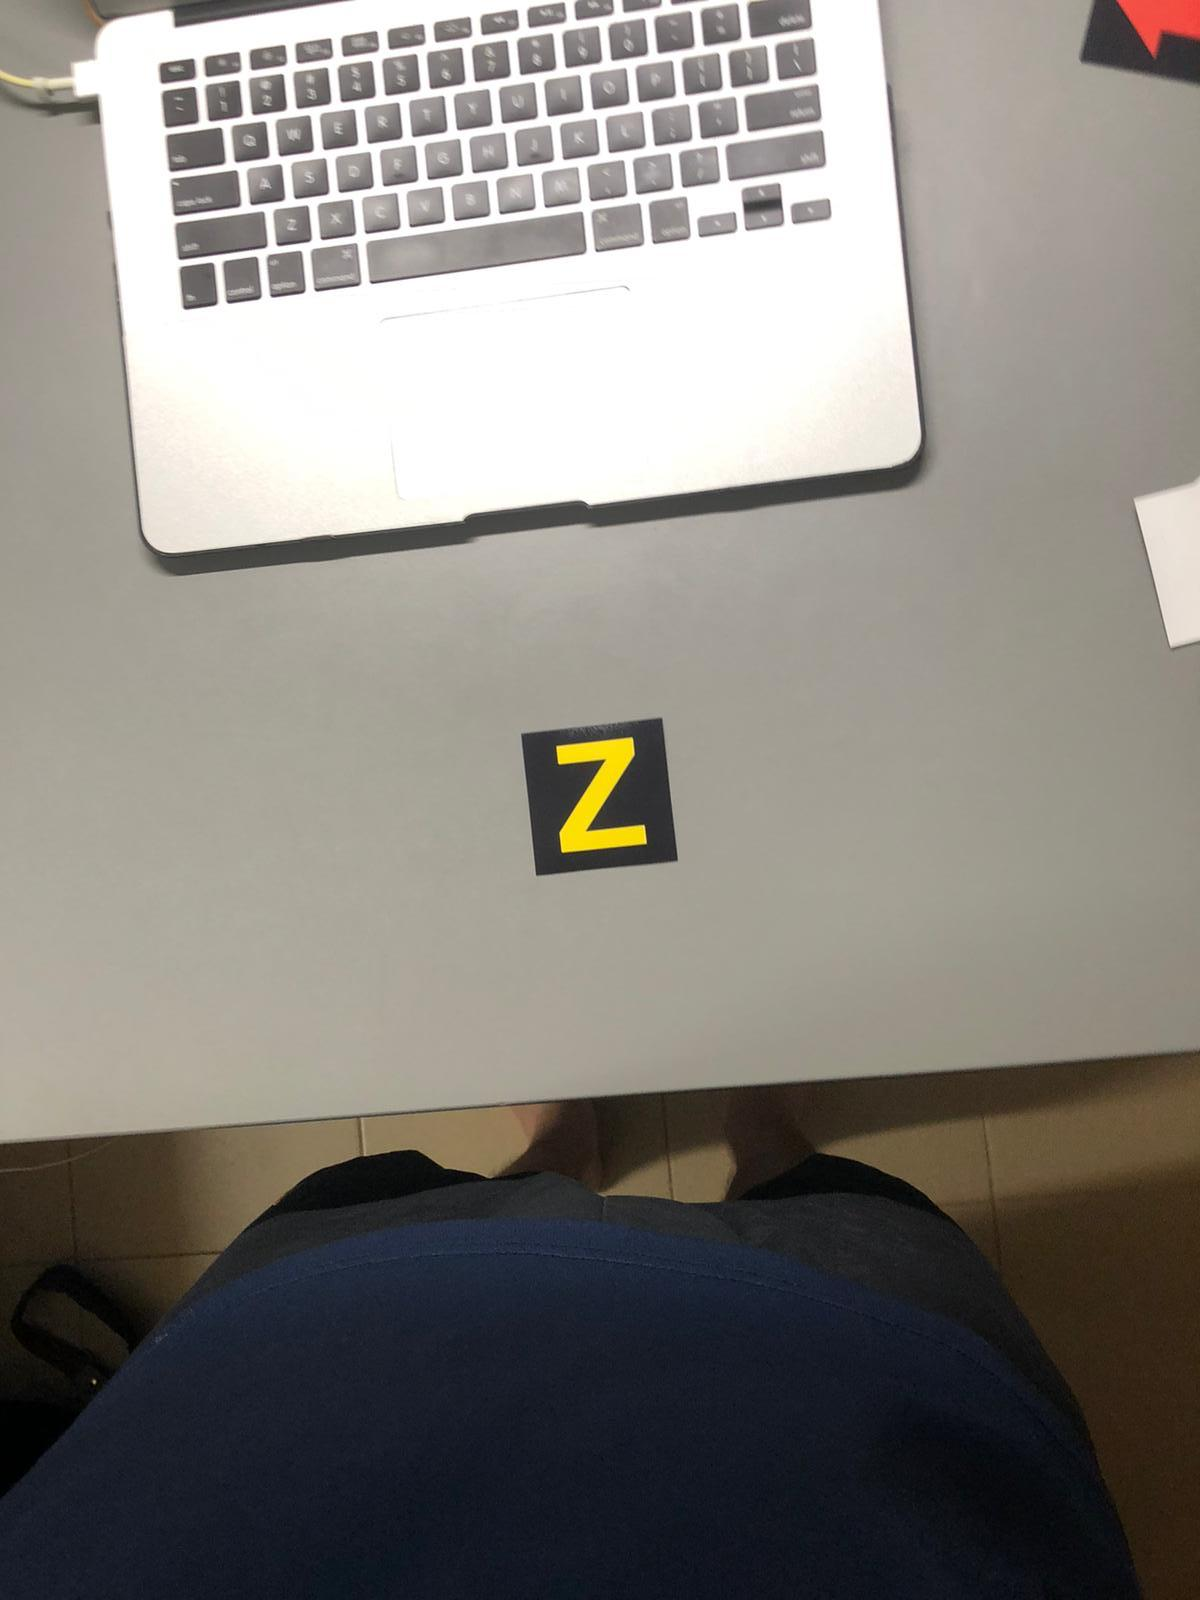Z: (524, 726, 673, 867)
